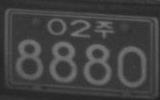0: (117, 45, 147, 89), (46, 17, 66, 36)
2: (70, 18, 91, 38)
8: (47, 40, 78, 84), (83, 42, 112, 87), (14, 38, 43, 81)
주: (94, 19, 114, 39)
